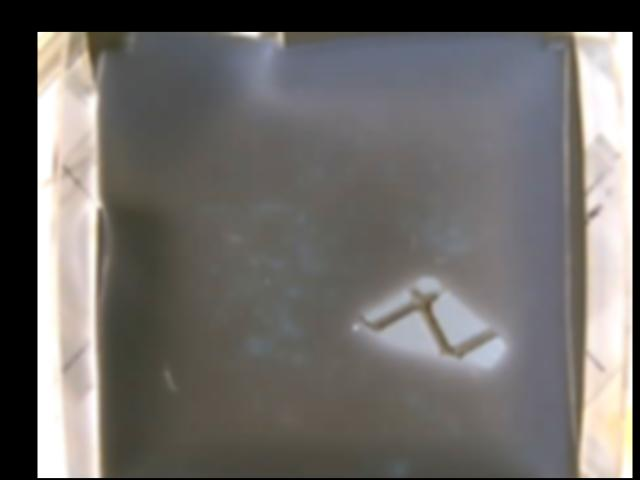China: (355, 275, 506, 369)
